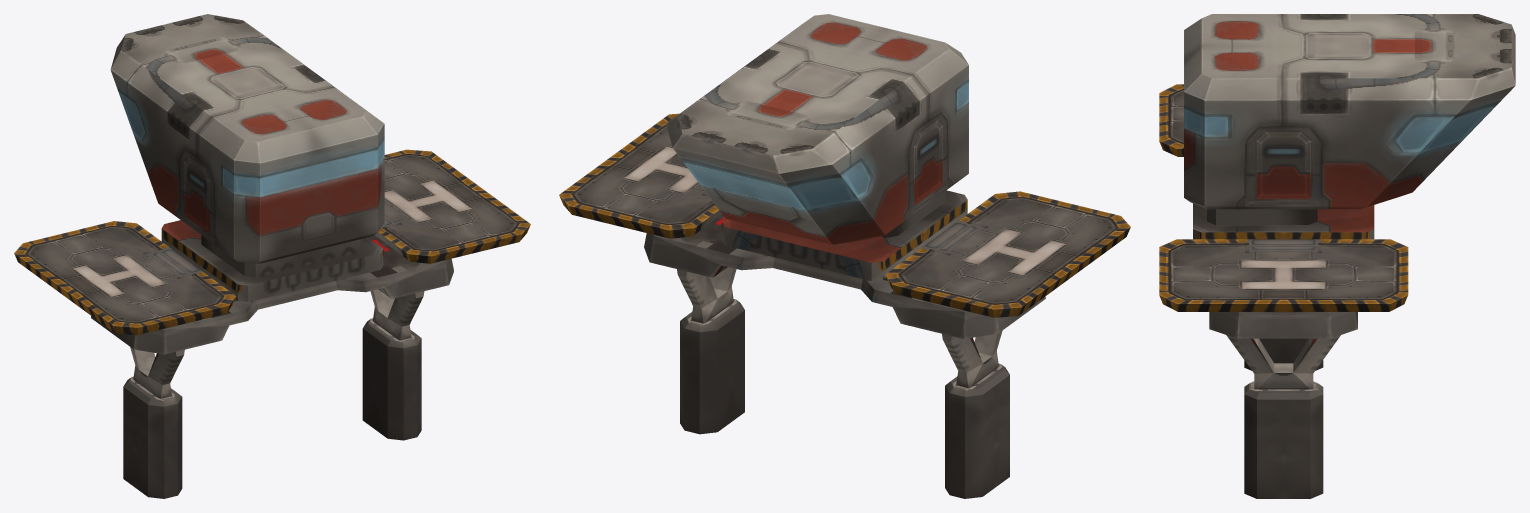
Rendered from crystal_station_super_low.fbx.
3 renders of one model, left to right at view 1: azimuth 30°, elevation 25°; view 2: azimuth 150°, elevation 25°; view 3: azimuth 270°, elevation 25°, orthographic. The views are drawn at different scales.
Parts seen in each view (by area): view 1: super_low; view 2: super_low; view 3: super_low.
Part boxes in pixels (<box>): super_low: <box>14,14,530,498</box>; super_low: <box>559,14,1130,498</box>; super_low: <box>1159,14,1515,498</box>.
Bounding box in the file's own units: 1822 × 1250 × 1474.
